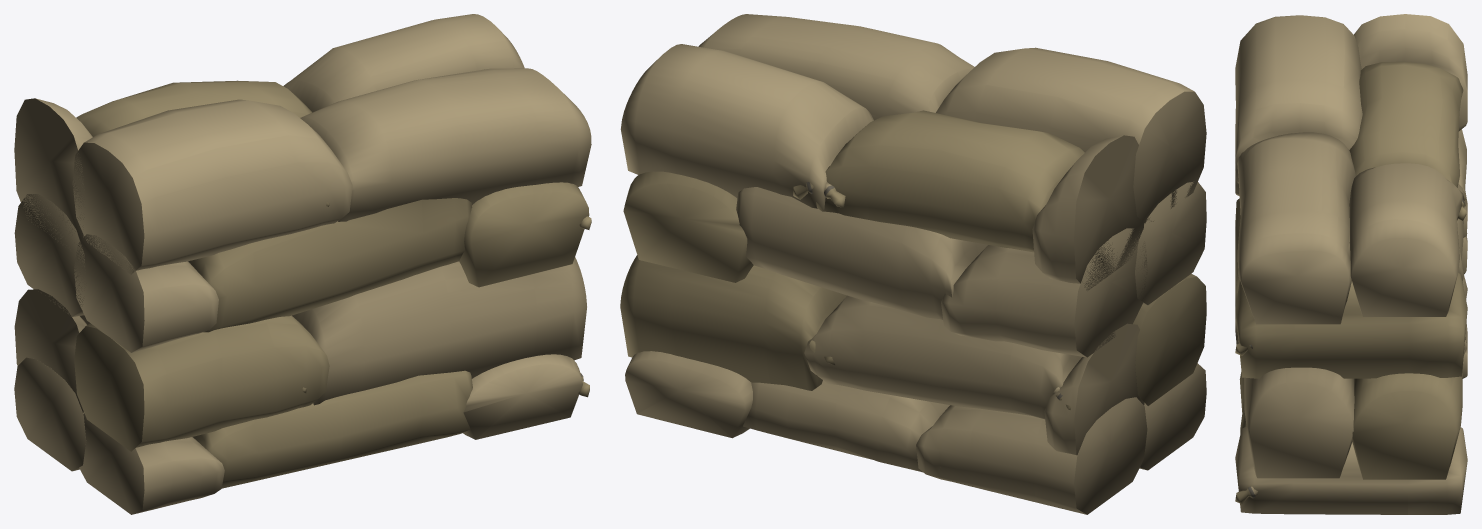
The model's file is sandbags_end.glb.
3 renders of one model, left to right at view 1: azimuth 30°, elevation 25°; view 2: azimuth 150°, elevation 25°; view 3: azimuth 270°, elevation 25°, orthographic. The views are drawn at different scales.
Parts seen in each view (by area): view 1: sandbags_end; view 2: sandbags_end; view 3: sandbags_end.
Boxes of the visible parts, box(x1,y1,x2,y2) form: sandbags_end: box(14, 14, 591, 514); sandbags_end: box(620, 14, 1206, 514); sandbags_end: box(1235, 14, 1467, 514).
Bounding box in the file's own units: 1.2 × 0.9002 × 0.6.
